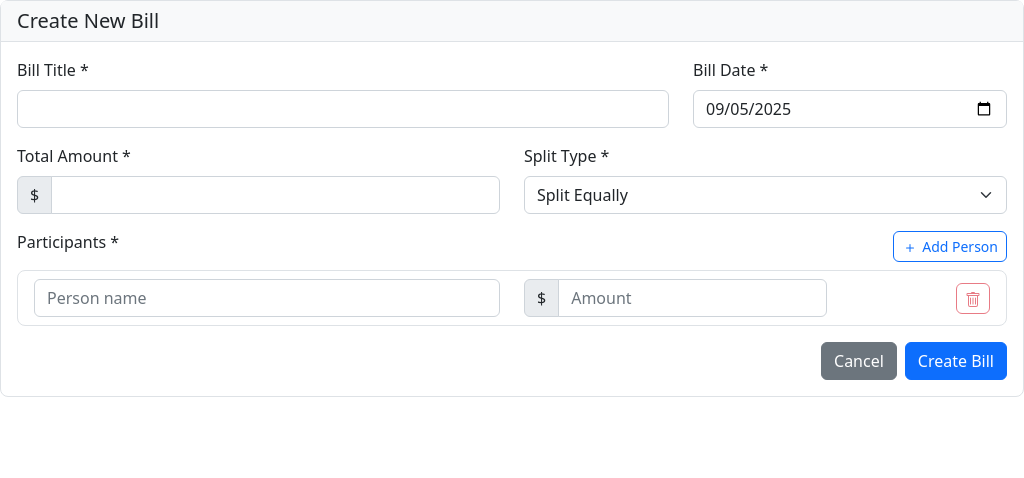
Scenario: BillForm › Custom Split Total Calculation › shows calculated total for custom split
Select "Custom Amounts" in the dropdown showing "Split Equally". click: (766, 195)
box: left=524, top=176, right=1007, bottom=214
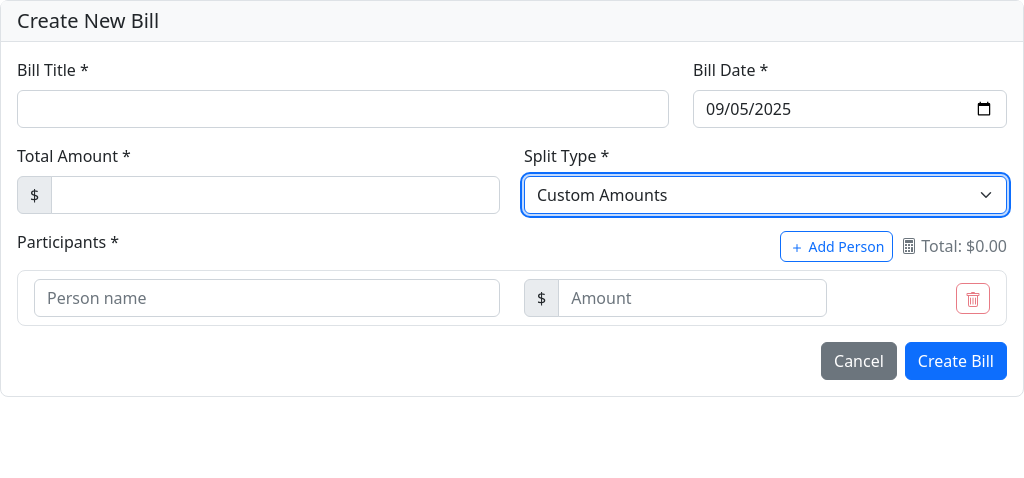
Type "30" into the number field with placeholder "Amount". click: (692, 298)
box: left=558, top=279, right=827, bottom=317
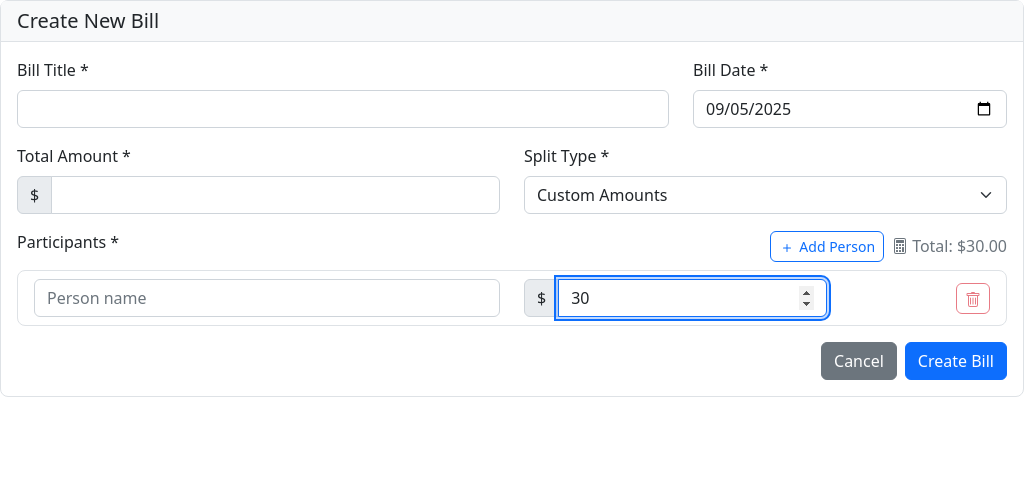
Click the button "Add Person". click: (827, 246)
box: left=770, top=230, right=884, bottom=262
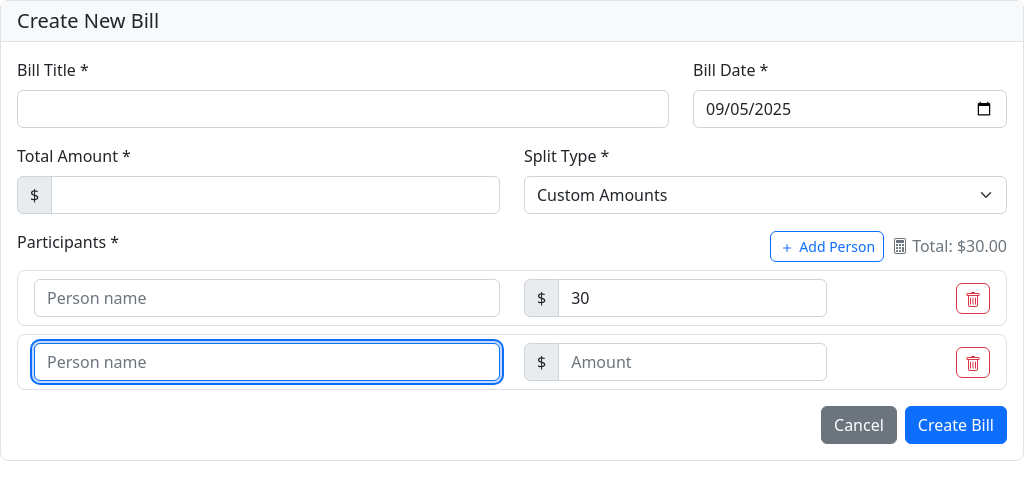
Type "20" into the number field with placeholder "Amount". click: (692, 362)
box: left=558, top=343, right=827, bottom=381
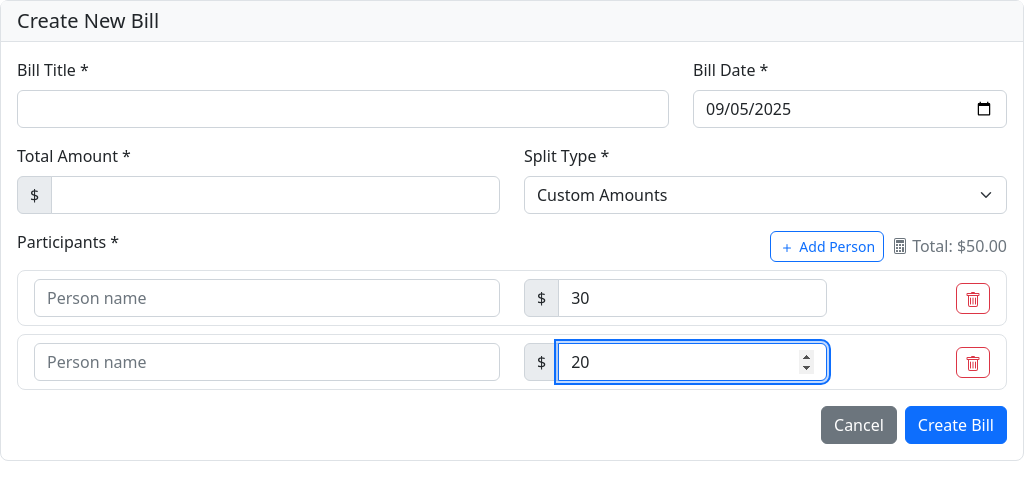
Expected: the text "Total: $50.00" is shown, left=892, top=234, right=1007, bottom=258
